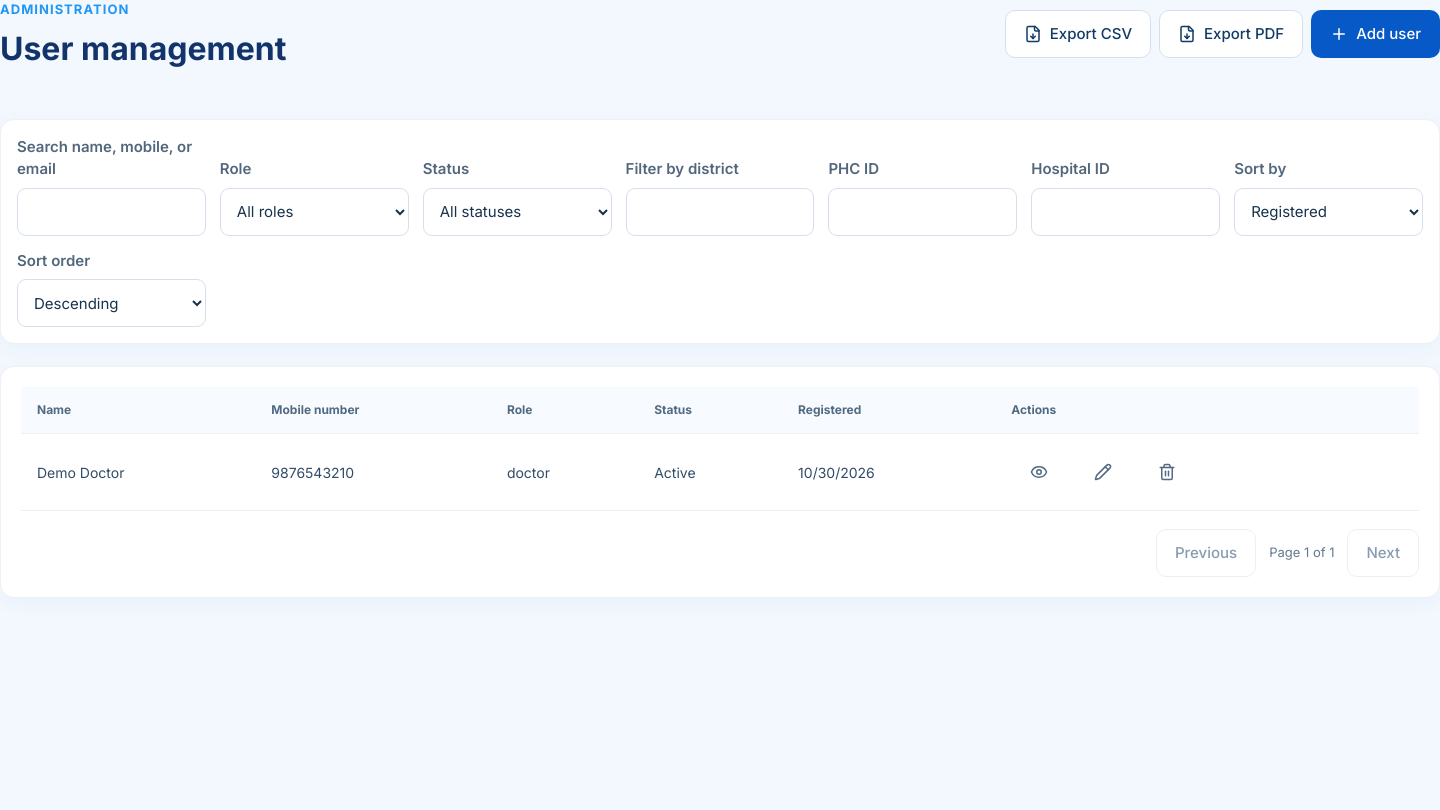
admin dashboard and user-management screens › loads the user table and opens the add-user form
Expected: the text "Demo Doctor" is shown, [21,434,255,510]
What coordinates should you click on to do the following:
click the button "Add user"
I would click on:
 (1376, 34)
Its box is [1311,10,1439,58].
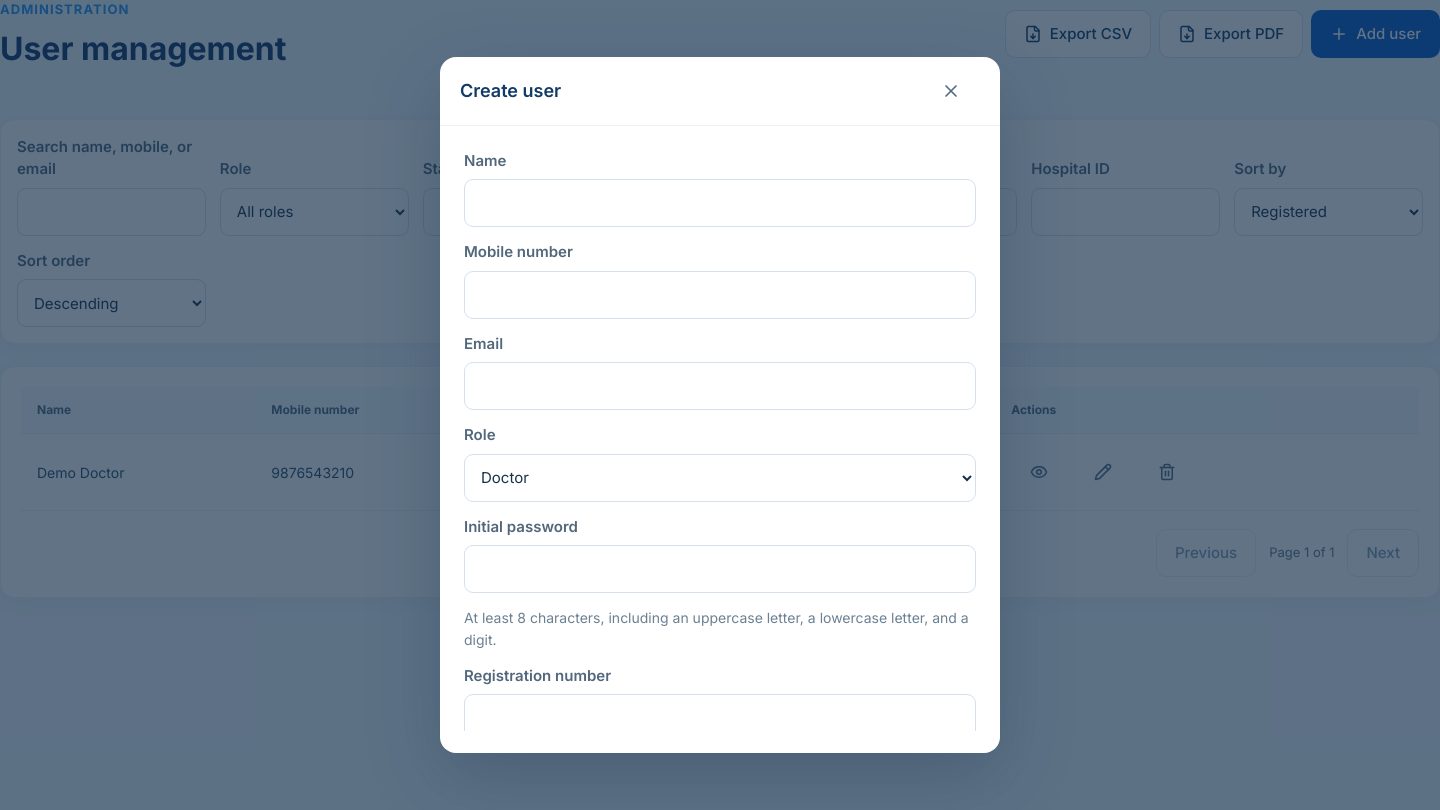
Now the heading "Create user" is shown, box [460,77,561,104]
Now the password field labelled "Initial password" is shown, box [464,545,976,593]
